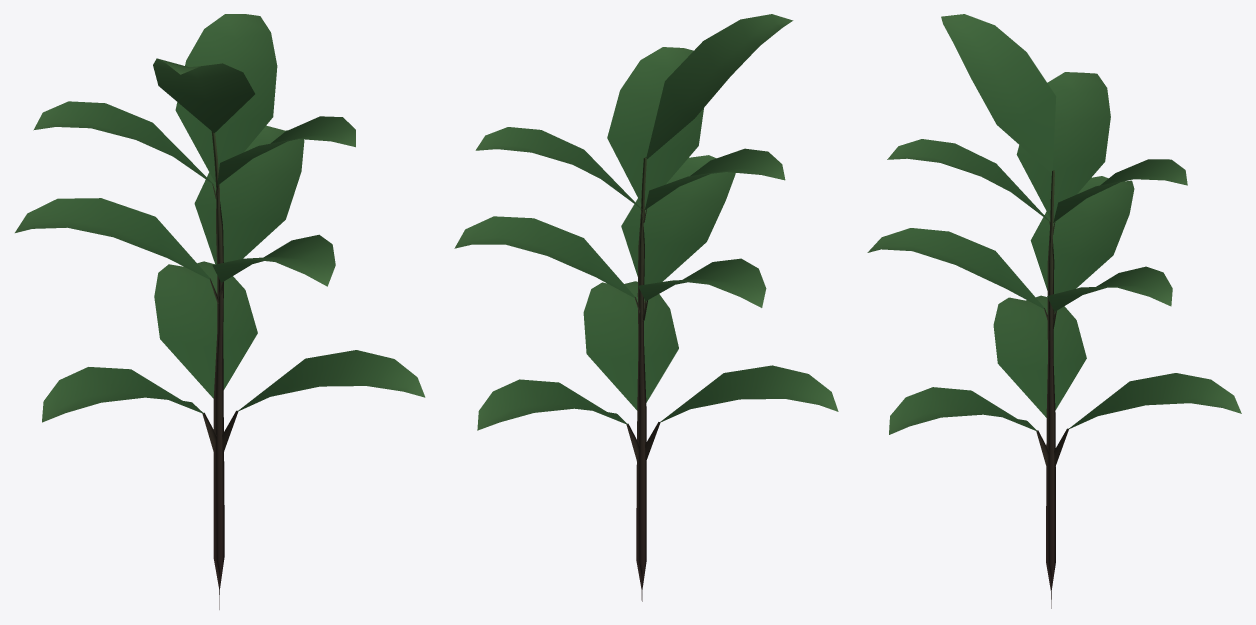
The model's file is plants-leafy-plants-rubber-plant_v1.glb.
The picture shows the model from 3 angles, left to right: view 1: azimuth 30°, elevation 25°; view 2: azimuth 150°, elevation 25°; view 3: azimuth 270°, elevation 25°; orthographic projection. The views are drawn at different scales.
Visible parts, largest first — view 1: Rubber Plant_v1; view 2: Rubber Plant_v1; view 3: Rubber Plant_v1.
Part boxes in pixels (x1,y1,x2,y2): Rubber Plant_v1: (15,14,425,609); Rubber Plant_v1: (454,14,838,601); Rubber Plant_v1: (867,14,1241,608).
Size of the model in its own units: 0.4499 by 0.8 by 0.492.
